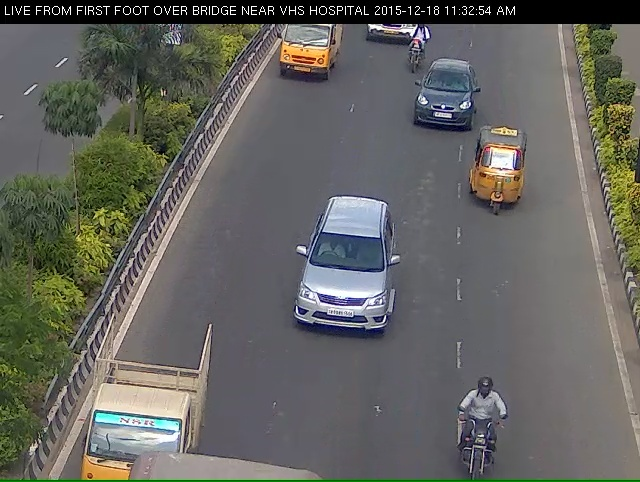Auto: (72, 343, 212, 482), (472, 129, 537, 226), (275, 18, 336, 87)
Car: (284, 212, 398, 361), (422, 62, 478, 138)
Person: (454, 406, 524, 482), (402, 30, 429, 74)
